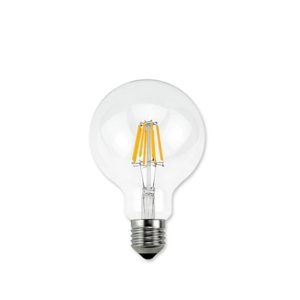Light_bulb: (85, 73, 213, 266)
